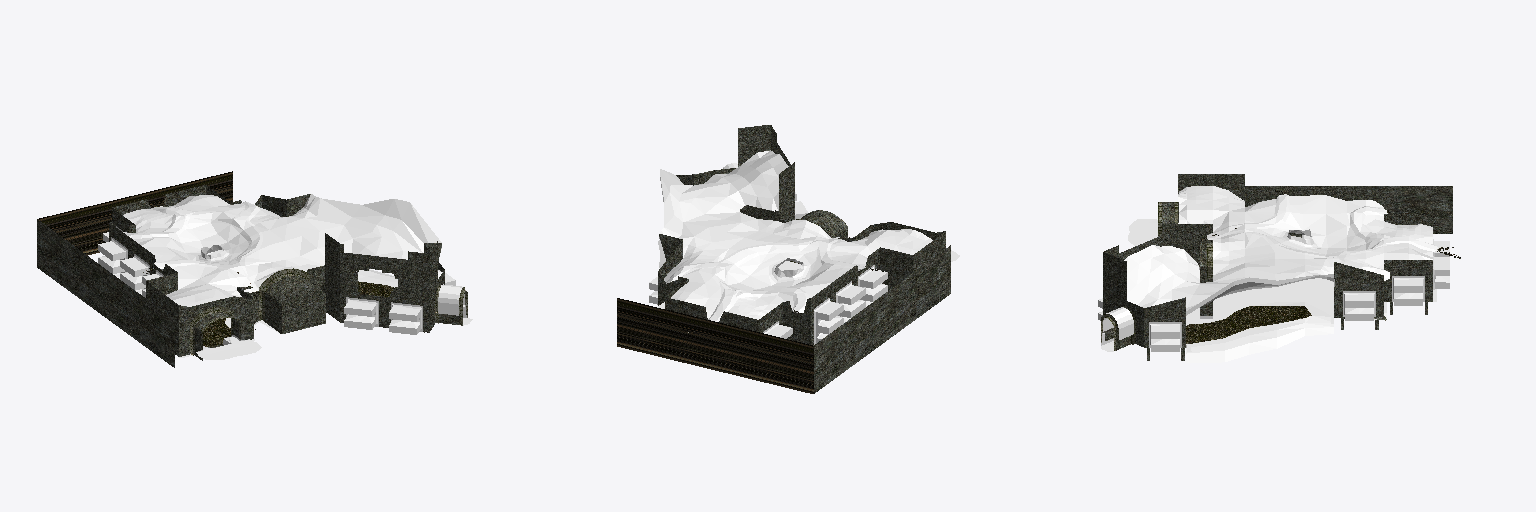
The picture shows the model from 3 angles: view 1: azimuth 30°, elevation 25°; view 2: azimuth 150°, elevation 25°; view 3: azimuth 270°, elevation 25°; orthographic projection.
Parts seen in each view (by area): view 1: mesh6, mesh3, mesh0, mesh12, mesh15, mesh14, mesh8, mesh11; view 2: mesh6, mesh3, mesh0; view 3: mesh6, mesh3, mesh14, mesh8, mesh15, mesh11, mesh12.
Boxes of the visible parts, box(x1,y1,x2,y2) form: mesh6: box(98, 194, 463, 357); mesh3: box(37, 185, 459, 367); mesh0: box(38, 171, 232, 255); mesh12: box(321, 244, 422, 305); mesh15: box(190, 268, 467, 360); mesh14: box(191, 281, 394, 355); mesh8: box(154, 248, 472, 359); mesh11: box(120, 258, 462, 323); mesh6: box(649, 150, 932, 344); mesh3: box(658, 125, 950, 393); mesh0: box(617, 298, 813, 393); mesh6: box(1098, 186, 1449, 362); mesh3: box(1103, 174, 1452, 350); mesh14: box(1186, 306, 1311, 343); mesh8: box(1101, 194, 1384, 351); mesh15: box(1101, 202, 1212, 350); mesh11: box(1103, 276, 1436, 339); mesh12: box(1108, 224, 1168, 347).
Size of the model in its own units: 22.37 by 7.04 by 25.27.
16 materials, 9 textured.